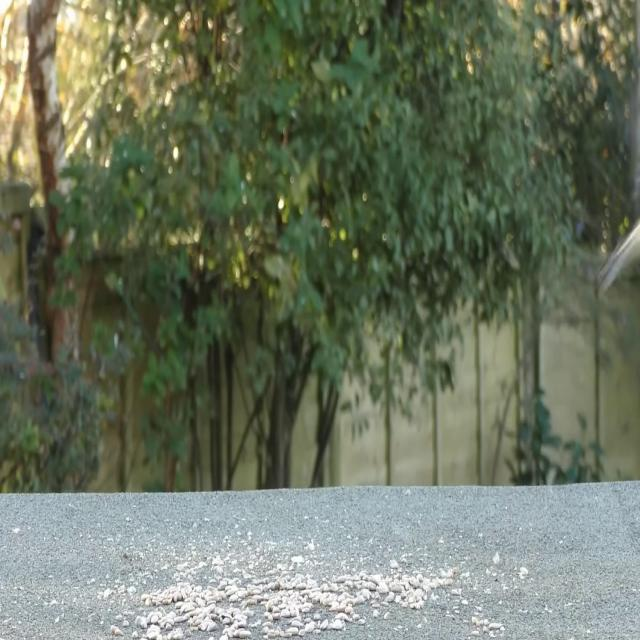bird: (600, 210, 640, 296)
